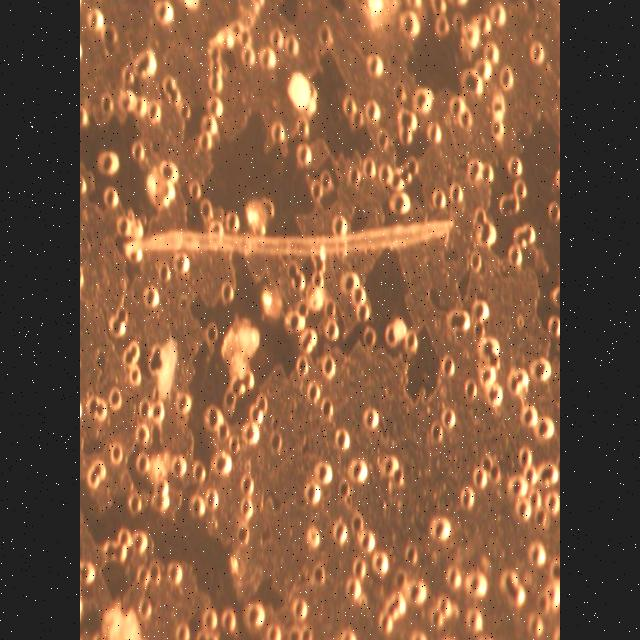Fibre: (119, 207, 457, 279)
